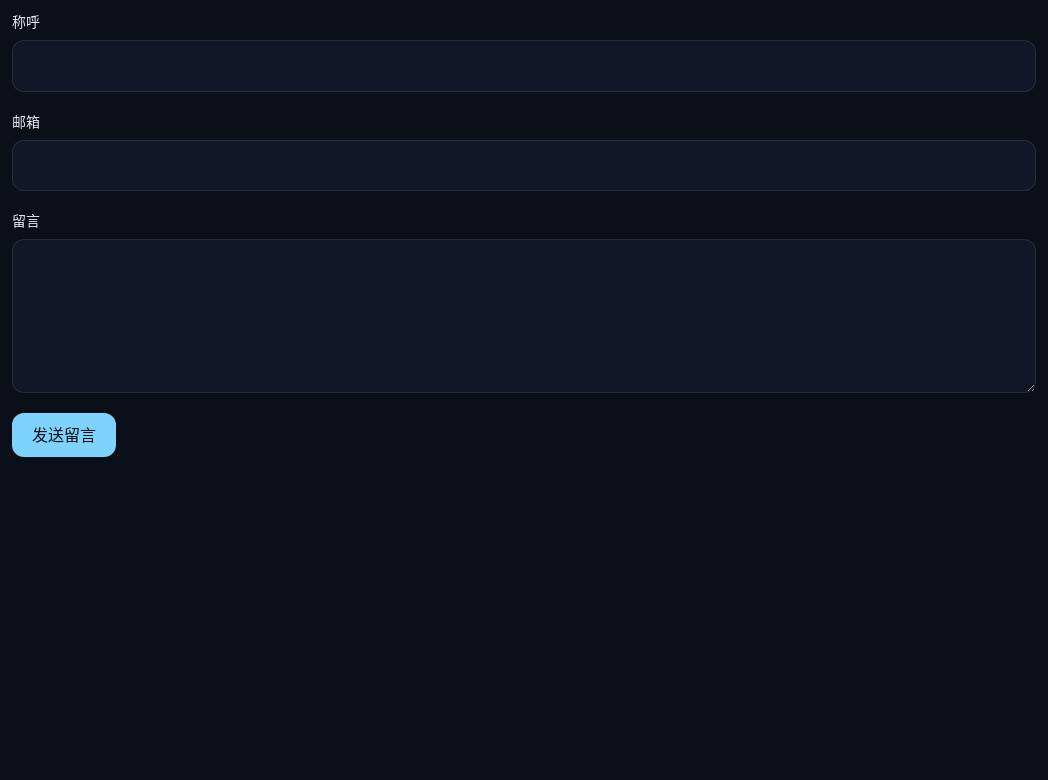
Test: ContactForm › 字段为空时提交：全量校验拦截，不发起请求
Click the button "发送留言" at (64, 434), box 12,412 -> 116,456
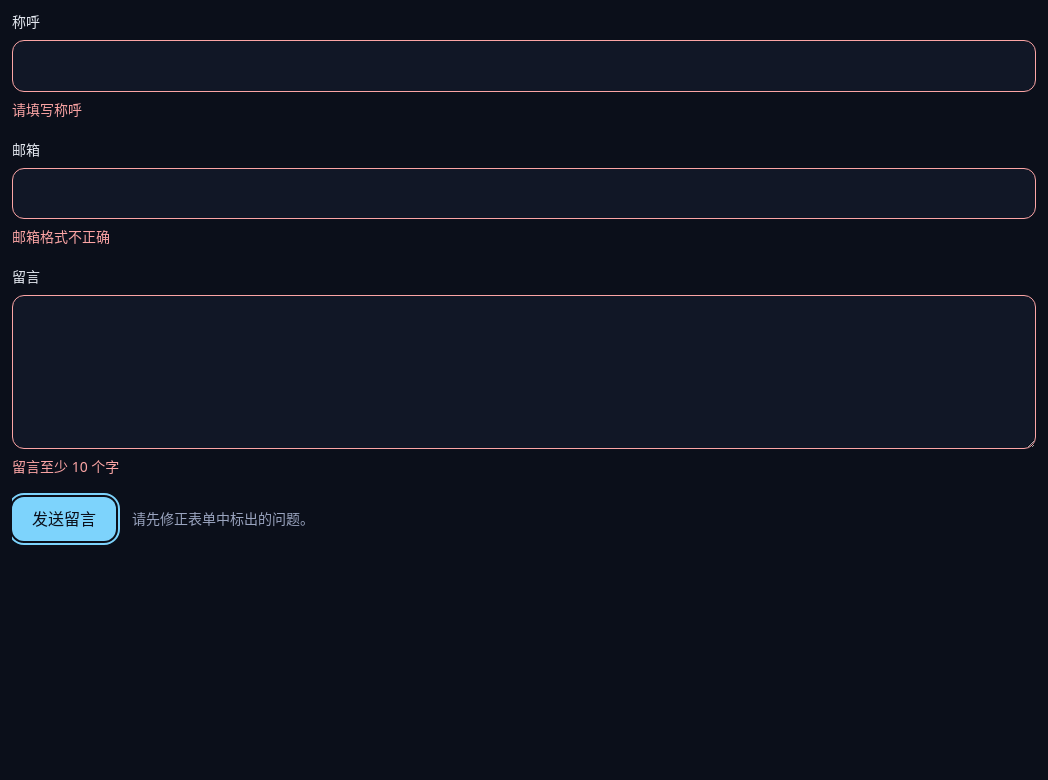
Now the text "请填写称呼" is shown, box 12,100 -> 82,118
Now the text "邮箱格式不正确" is shown, box 12,227 -> 110,246
Now the text "留言至少 10 个字" is shown, box 12,456 -> 119,476
